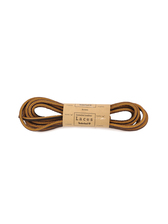other: (16, 92, 150, 135)
